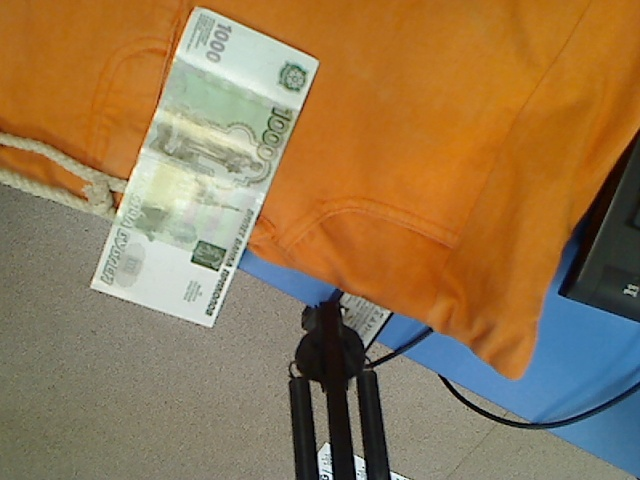banknotes: (89, 7, 322, 332)
